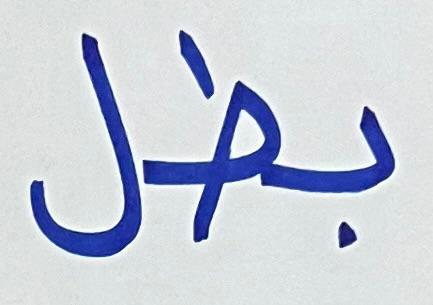beh: (296, 74, 402, 254)
lam: (19, 14, 168, 264)
tah: (173, 20, 290, 251)
